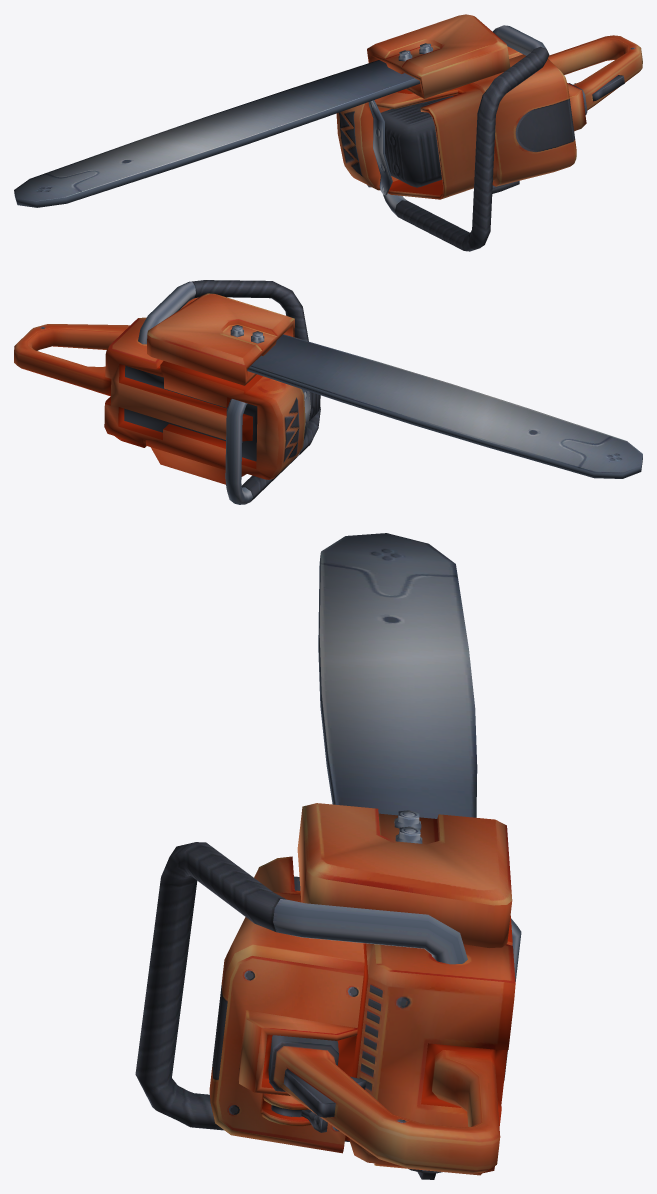
File: chainsaw_miside.glb
3 renders of one model, top to bottom at view 1: azimuth 30°, elevation 25°; view 2: azimuth 150°, elevation 25°; view 3: azimuth 270°, elevation 25°, orthographic. The views are drawn at different scales.
Parts seen in each view (by area): view 1: obj503_0; view 2: obj503_0; view 3: obj503_0.
Boxes of the visible parts, bbox=[...] form: obj503_0: bbox=[14, 14, 642, 251]; obj503_0: bbox=[14, 280, 642, 504]; obj503_0: bbox=[135, 533, 521, 1179].
Size of the model in its own units: 0.00112 by 0.000306 by 0.000308.
1 material, 1 textured.
